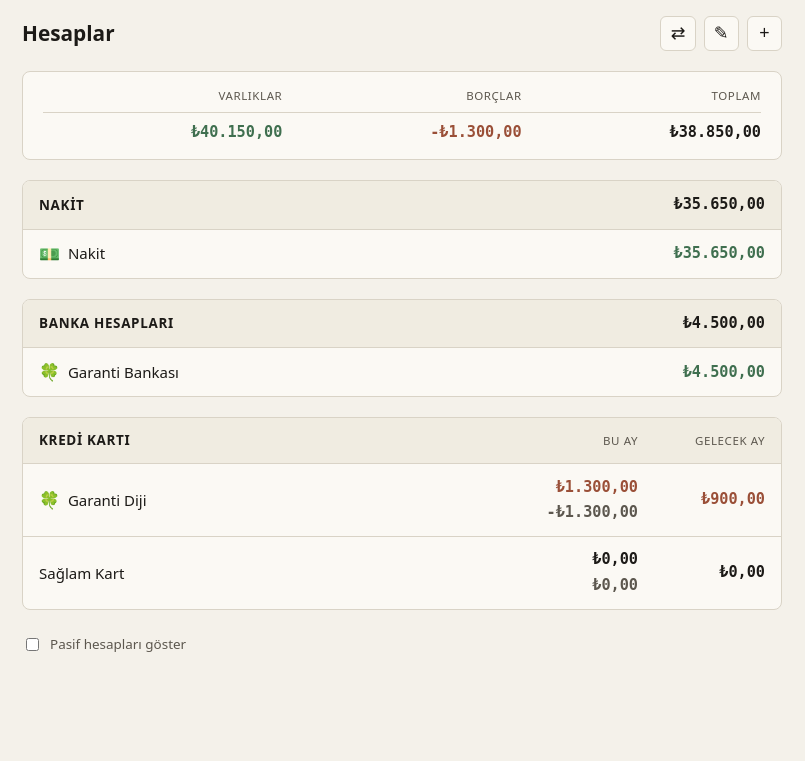
Hesaplar listesi › Drive varsa transfer düğmesi transfer formunu açar
The image size is (805, 761).
Click the button named "transfer yap".
click(678, 34)  # box [660,16,696,51]
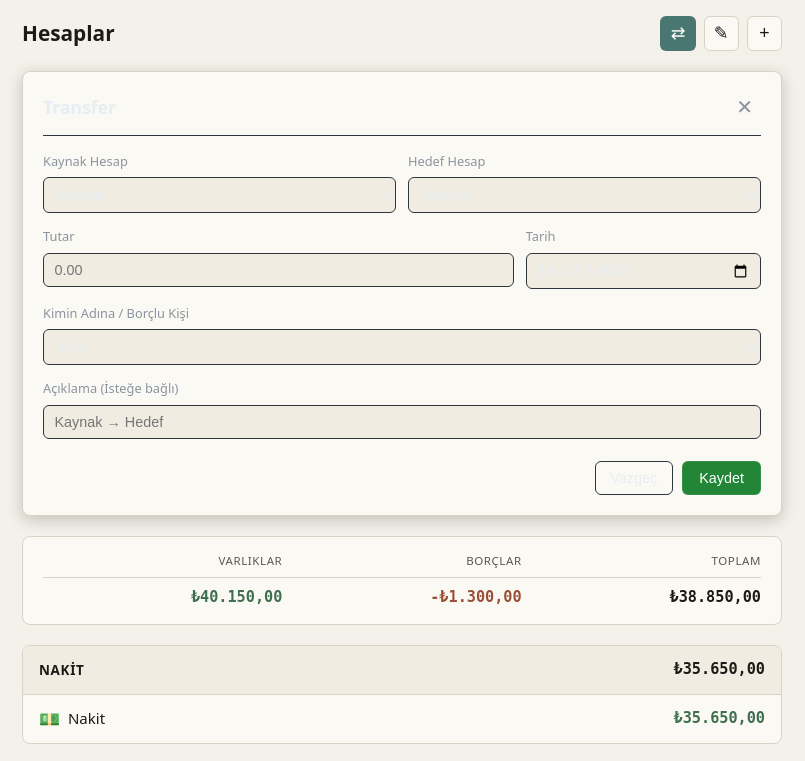
Now the text "Kaynak Hesap" is shown, box [43,152,128,170]
Now the text "Hedef Hesap" is shown, box [408,152,485,170]
